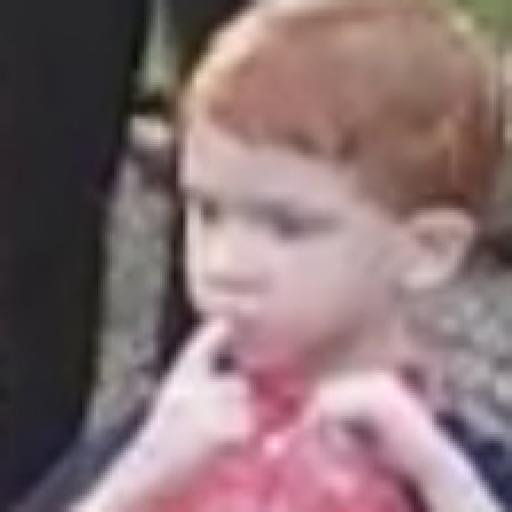Autism: (153, 25, 512, 434)
